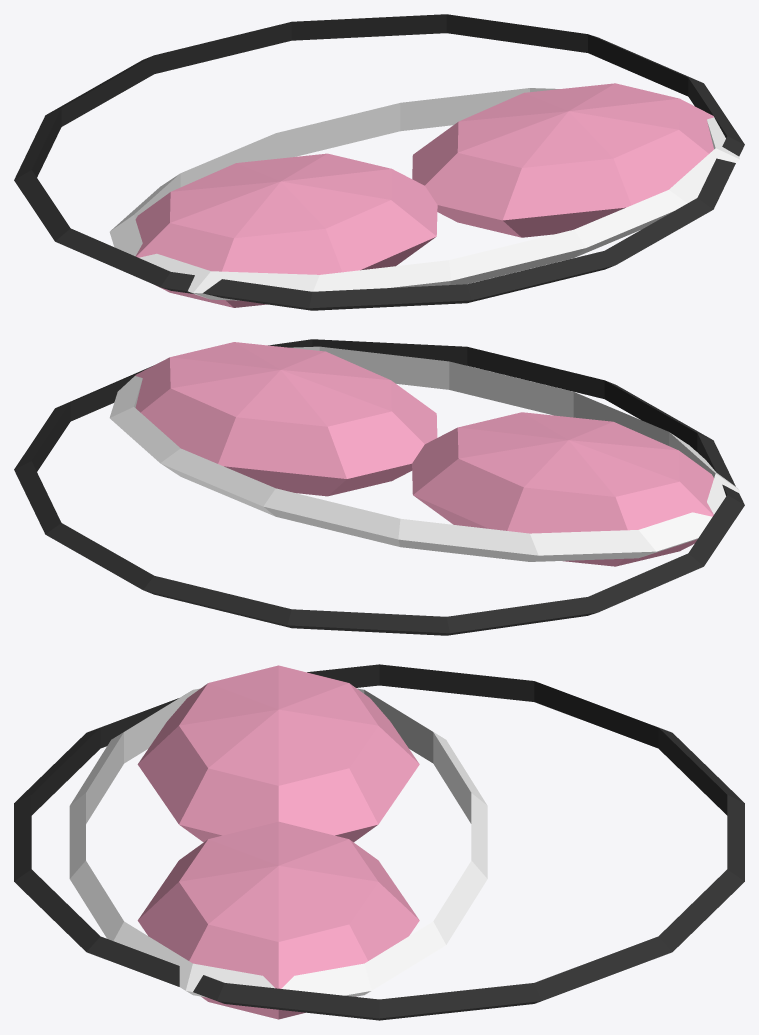
File: sleep_mask.glb
3 renders of one model, top to bottom at view 1: azimuth 30°, elevation 25°; view 2: azimuth 150°, elevation 25°; view 3: azimuth 270°, elevation 25°, orthographic. The views are drawn at different scales.
Visible parts, largest first — view 1: mask_mask_pink, band_elastic, mask_white; view 2: mask_mask_pink, mask_white, band_elastic; view 3: mask_mask_pink, band_elastic, mask_white.
Part boxes in pixels (x1,y1,x2,y2): mask_mask_pink: (135, 83, 713, 307); band_elastic: (14, 14, 744, 310); mask_white: (109, 88, 739, 300); mask_mask_pink: (135, 342, 713, 566); mask_white: (109, 346, 739, 561); band_elastic: (14, 339, 744, 635); mask_mask_pink: (137, 665, 419, 1019); band_elastic: (14, 664, 744, 1020); mask_white: (69, 688, 487, 997).
Bounding box in the file's own units: 0.248 × 0.036 × 0.2176.
